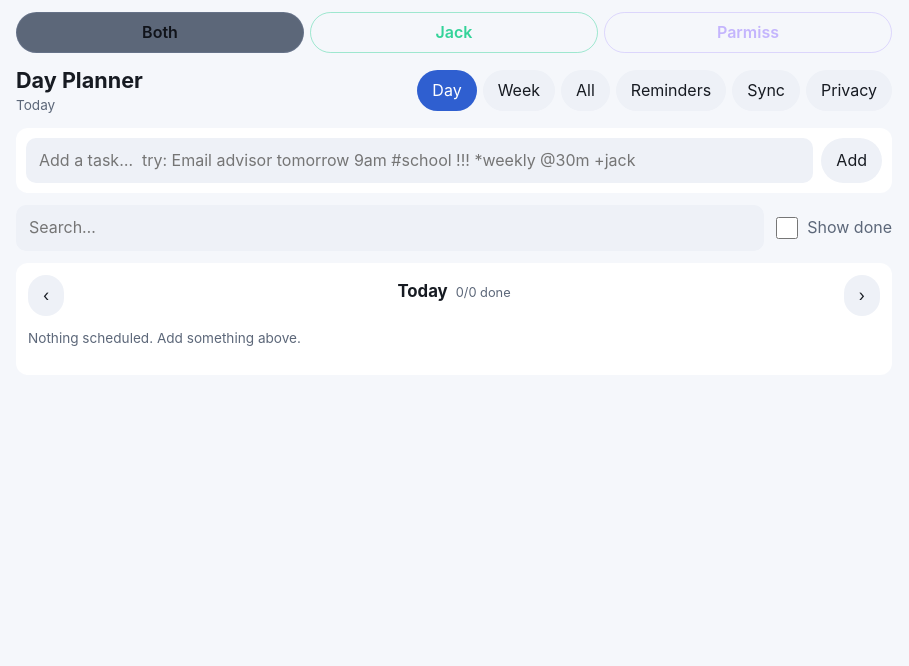
Test case: App › opens the reminders panel with its calendar escape hatch
Click the button "Reminders" at x=671, y=91, box [616,70,726,111]
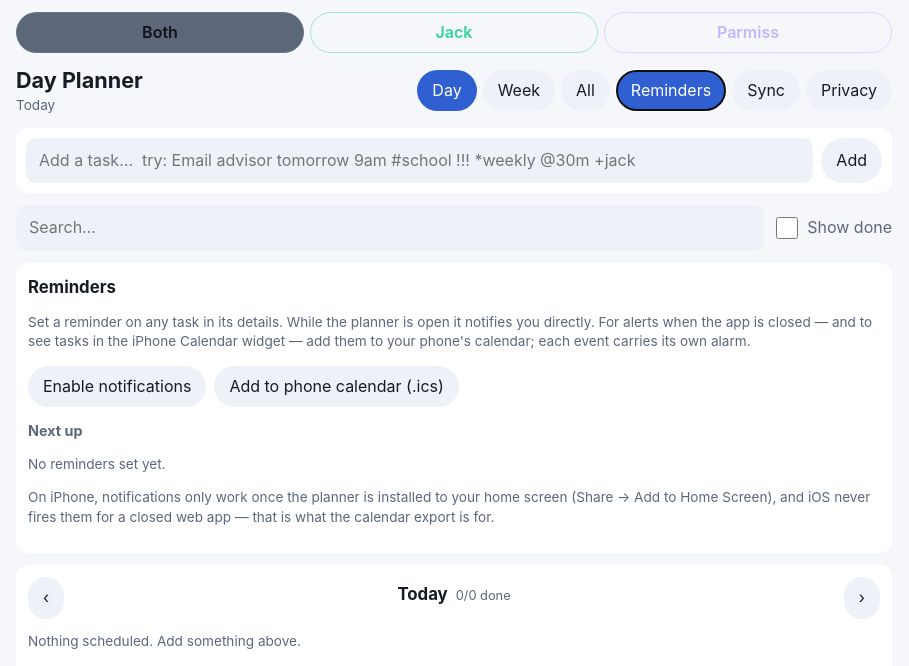
Expected: the heading "Reminders" is shown, [28,277,116,297]
Expected: the button "Add to phone calendar (.ics)" is shown, [214,366,459,407]
